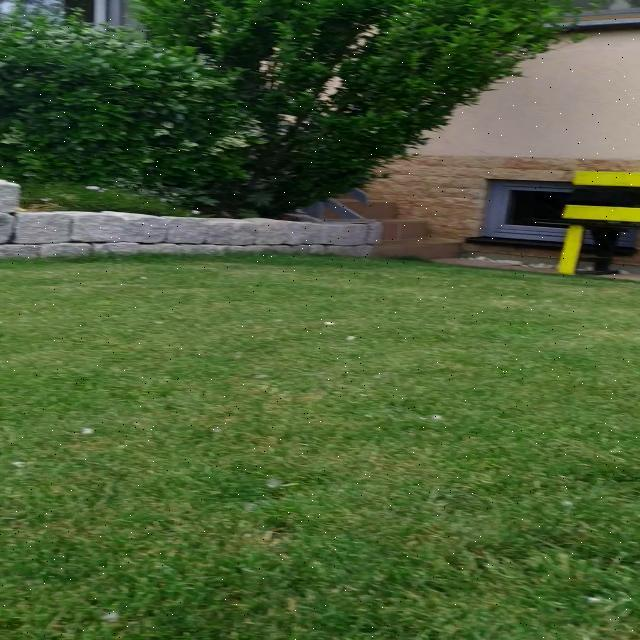lawn: (0, 256, 640, 640)
